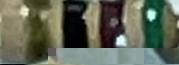Black: (62, 1, 91, 55)
Brown: (99, 0, 127, 51)
Green: (141, 1, 166, 50)
Side-Gold: (23, 0, 54, 64)
